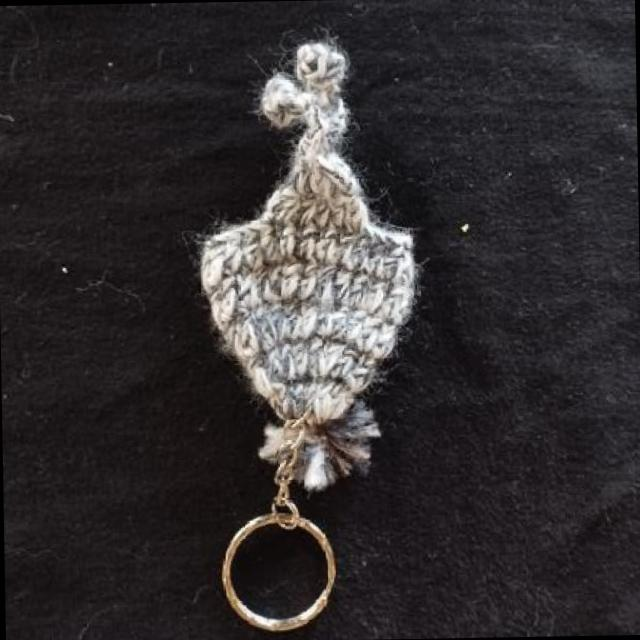Llavero: (190, 36, 422, 495)
